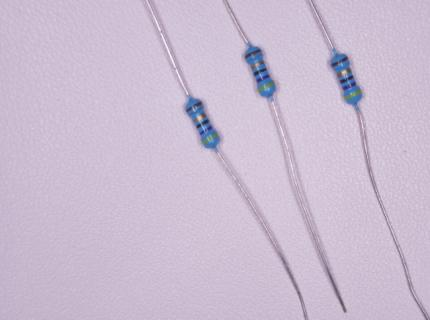Gold band: (192, 113, 207, 123), (250, 60, 265, 70), (337, 68, 351, 78)
Violet band: (255, 74, 271, 84), (199, 125, 213, 136), (342, 81, 357, 91)
Yellow band: (201, 133, 218, 145), (258, 81, 275, 93), (345, 90, 362, 100)
